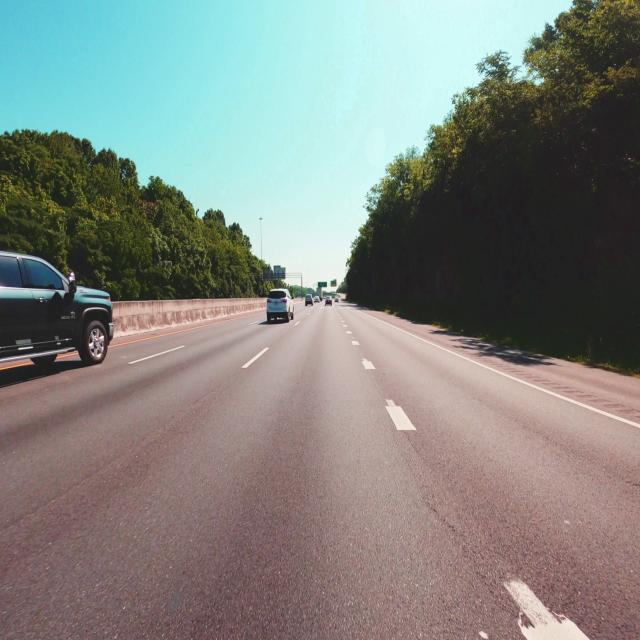car: (0, 252, 113, 365), (267, 289, 293, 322), (305, 294, 313, 306), (325, 297, 332, 305), (314, 296, 319, 302)
